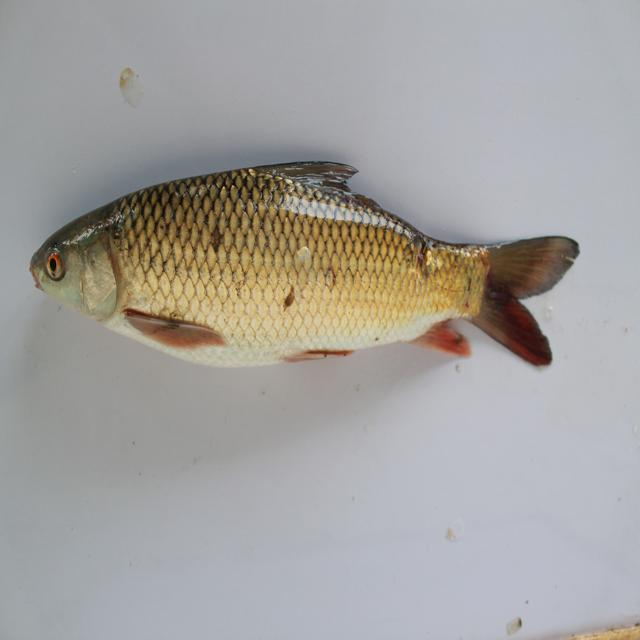Mori: (28, 152, 573, 387)
